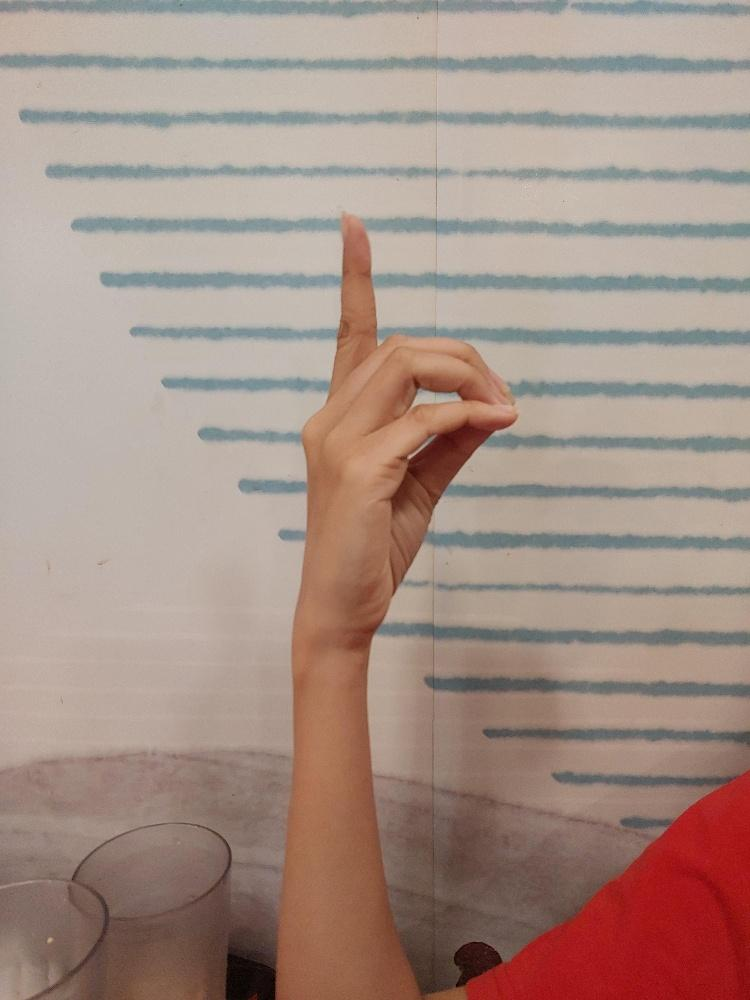d: (297, 203, 522, 637)
